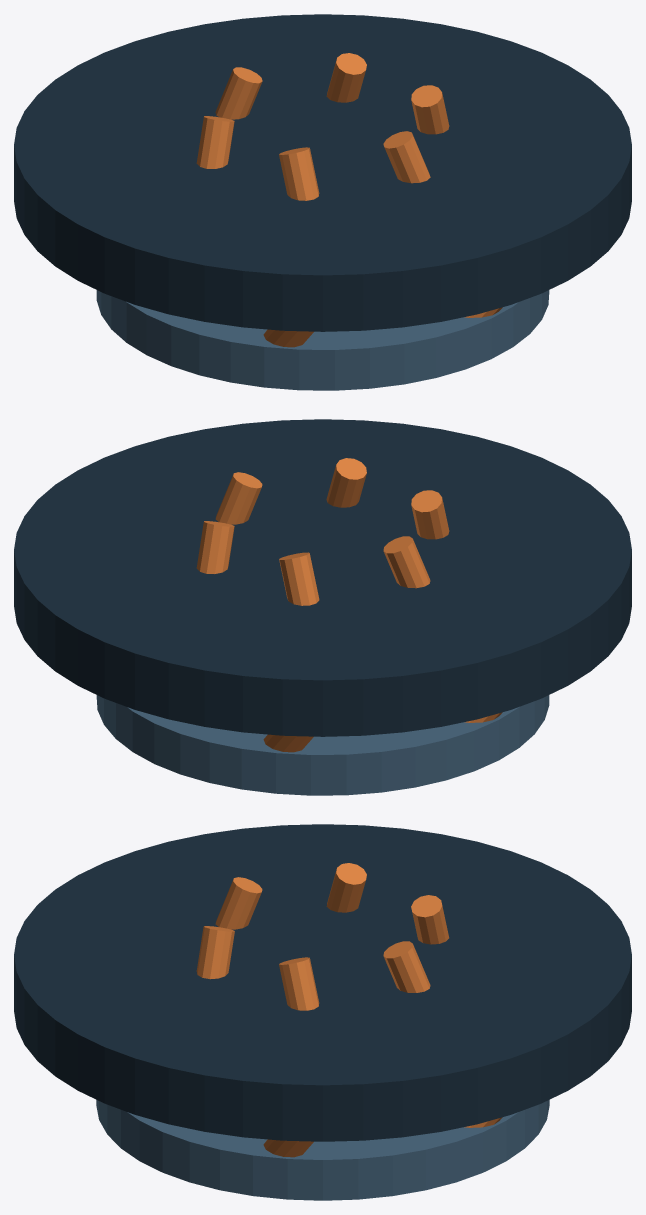
Rendered from 18_L79_HexapodFineAlignmentStage.fbx.
3 views of the same model, one above another, from view 1: azimuth 30°, elevation 25°; view 2: azimuth 150°, elevation 25°; view 3: azimuth 270°, elevation 25° (orthographic).
Parts seen in each view (by area): view 1: HexapodFineAlignmentStage, HexapodFineAlignmentStage_Part_0018, HexapodFineAlignmentStage_Part_0014, HexapodFineAlignmentStage_Part_0012, HexapodFineAlignmentStage_Part_0016, HexapodFineAlignmentStage_Part_0010, HexapodFineAlignmentStage_Part_0020; view 2: HexapodFineAlignmentStage, HexapodFineAlignmentStage_Part_0016, HexapodFineAlignmentStage_Part_0018, HexapodFineAlignmentStage_Part_0010, HexapodFineAlignmentStage_Part_0020, HexapodFineAlignmentStage_Part_0012, HexapodFineAlignmentStage_Part_0014; view 3: HexapodFineAlignmentStage, HexapodFineAlignmentStage_Part_0010, HexapodFineAlignmentStage_Part_0020, HexapodFineAlignmentStage_Part_0012, HexapodFineAlignmentStage_Part_0014, HexapodFineAlignmentStage_Part_0016, HexapodFineAlignmentStage_Part_0018.
Part boxes in pixels (box(x1,y1,x2,y2)): HexapodFineAlignmentStage: box(14, 14, 631, 390); HexapodFineAlignmentStage_Part_0018: box(215, 67, 262, 119); HexapodFineAlignmentStage_Part_0014: box(279, 147, 319, 200); HexapodFineAlignmentStage_Part_0012: box(383, 131, 430, 183); HexapodFineAlignmentStage_Part_0016: box(196, 116, 234, 168); HexapodFineAlignmentStage_Part_0010: box(411, 85, 449, 134); HexapodFineAlignmentStage_Part_0020: box(326, 53, 366, 102); HexapodFineAlignmentStage: box(14, 419, 631, 795); HexapodFineAlignmentStage_Part_0016: box(383, 536, 430, 588); HexapodFineAlignmentStage_Part_0018: box(279, 552, 319, 605); HexapodFineAlignmentStage_Part_0010: box(215, 472, 262, 524); HexapodFineAlignmentStage_Part_0020: box(196, 521, 234, 573); HexapodFineAlignmentStage_Part_0012: box(326, 458, 366, 507); HexapodFineAlignmentStage_Part_0014: box(411, 490, 449, 539); HexapodFineAlignmentStage: box(14, 824, 631, 1200); HexapodFineAlignmentStage_Part_0010: box(279, 957, 319, 1010); HexapodFineAlignmentStage_Part_0020: box(383, 941, 430, 992); HexapodFineAlignmentStage_Part_0012: box(196, 926, 234, 979); HexapodFineAlignmentStage_Part_0014: box(215, 877, 262, 929); HexapodFineAlignmentStage_Part_0016: box(326, 863, 366, 912); HexapodFineAlignmentStage_Part_0018: box(411, 895, 449, 944).
Bounding box in the file's own units: 248 × 85.27 × 248.
